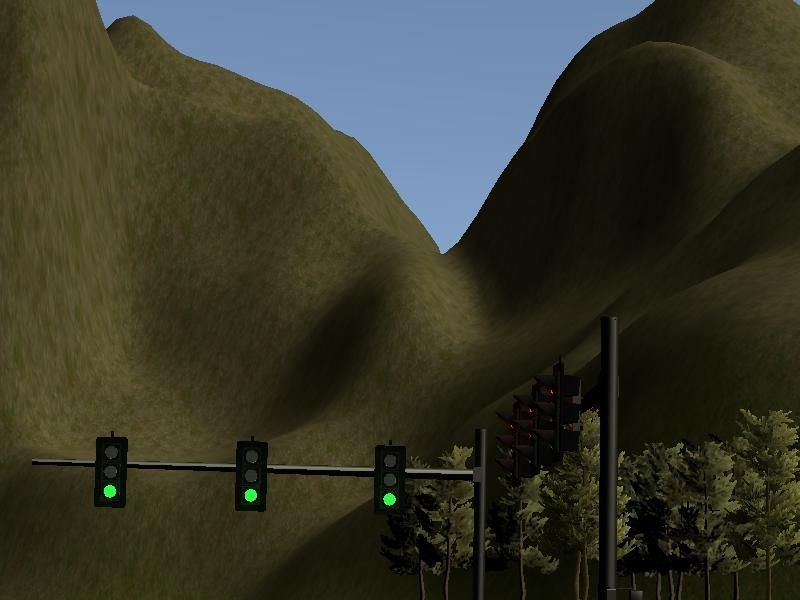green: (94, 436, 127, 507), (374, 444, 407, 515), (234, 439, 267, 510)
